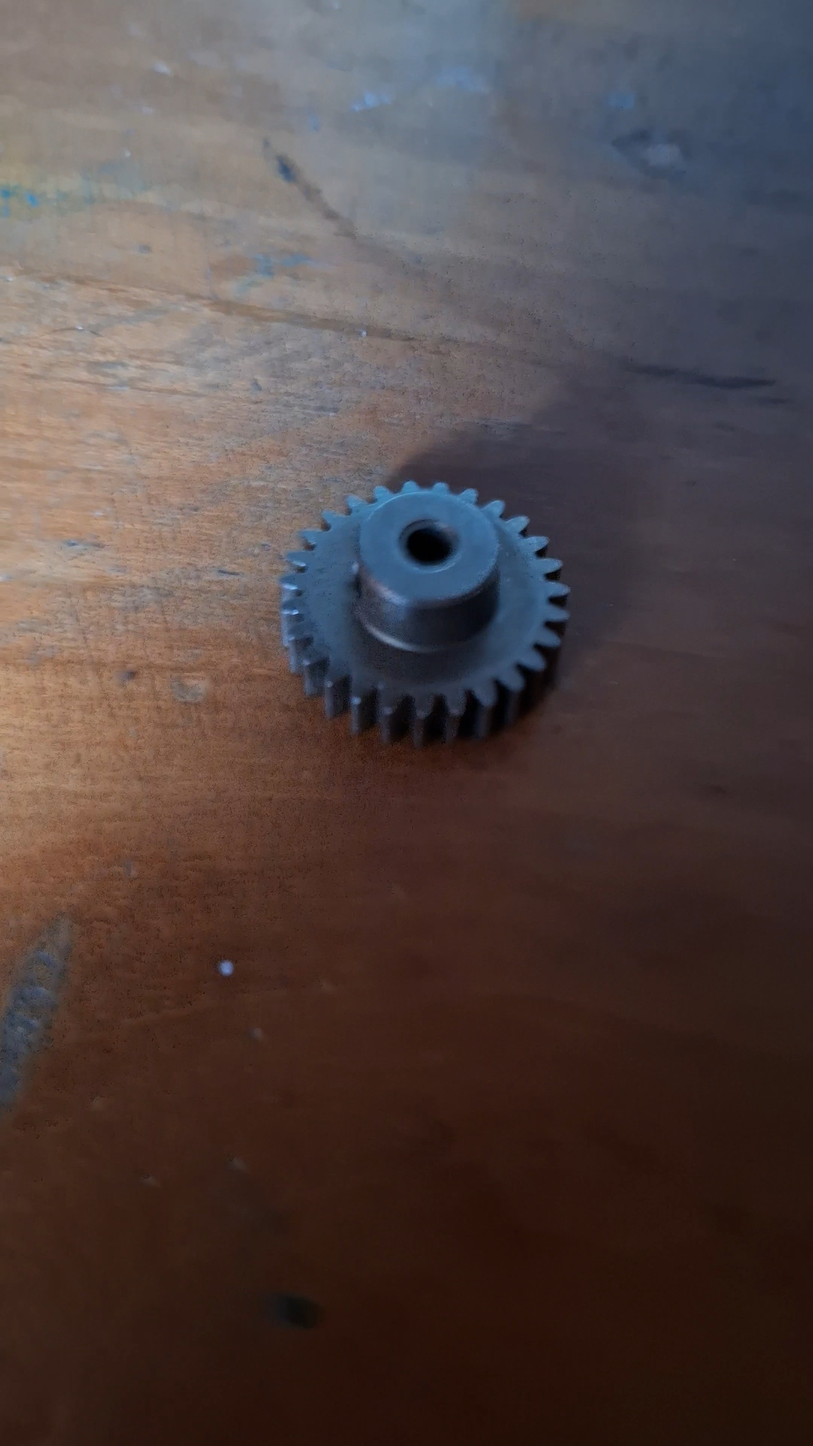spur gear: (281, 482, 568, 744)
